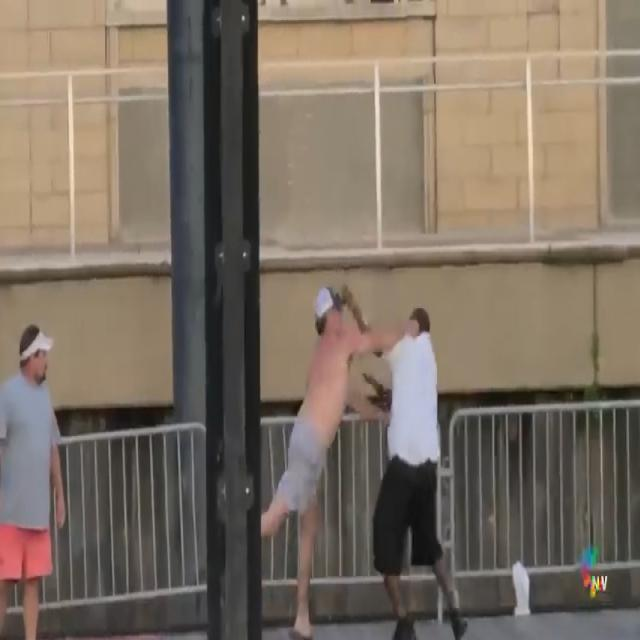fight: (261, 280, 469, 640)
